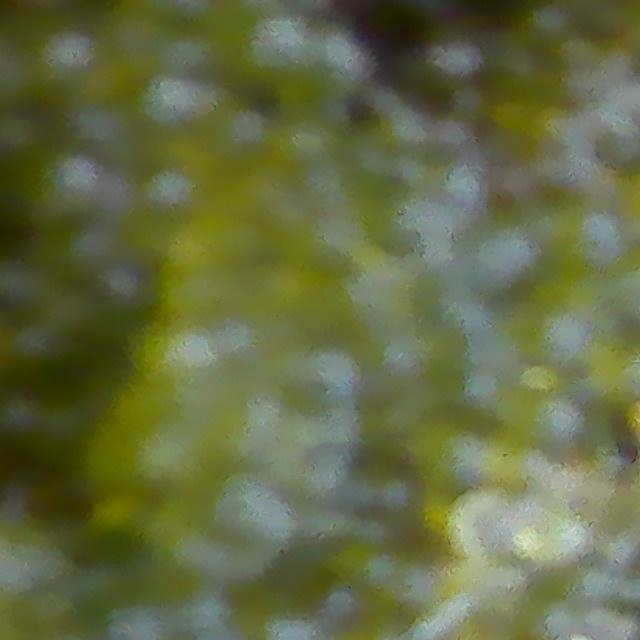SeaGrape: (511, 492, 581, 570)
